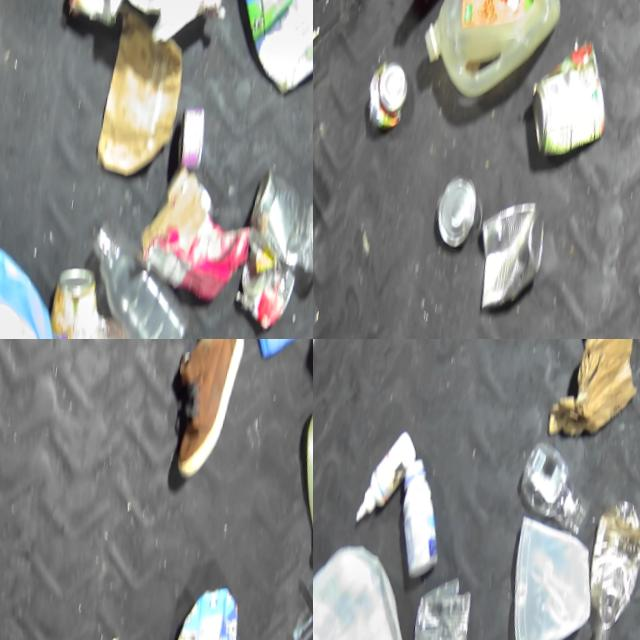can: (523, 27, 617, 165), (466, 187, 552, 319), (243, 162, 313, 268), (406, 563, 479, 640), (235, 245, 300, 329), (42, 258, 107, 339), (430, 169, 482, 249), (362, 55, 412, 131), (171, 100, 209, 172)
milk_jug: (413, 0, 567, 107), (313, 532, 420, 640), (288, 358, 313, 572)
plastic_bottle: (75, 212, 202, 339), (577, 485, 640, 640), (513, 435, 598, 536)
